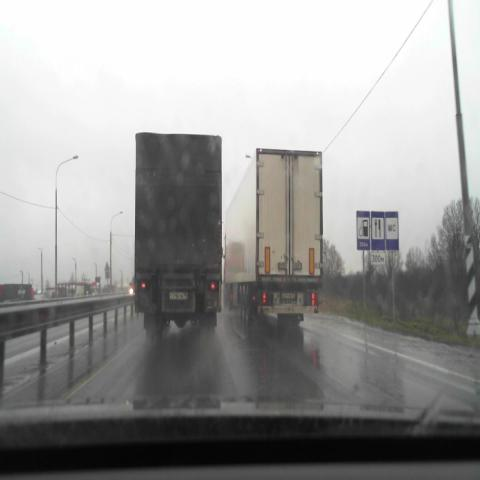7_18: (386, 211, 400, 250)
7_7: (371, 211, 385, 249)
